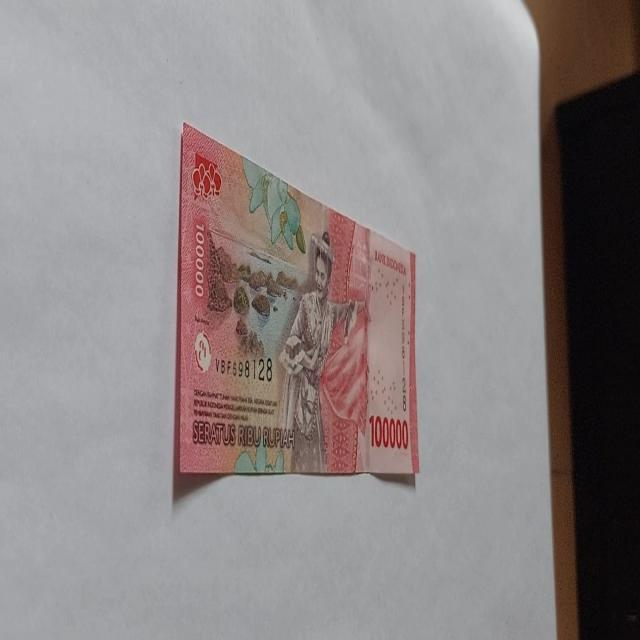seratus ribu rupiah: (174, 121, 420, 482), (276, 231, 368, 474)
